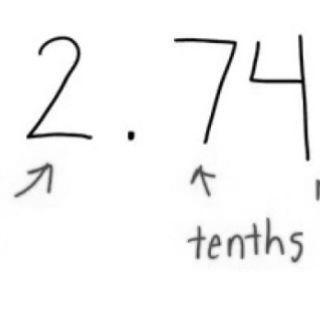.: (123, 127, 141, 144)
2: (21, 32, 97, 143)
4: (249, 34, 313, 160)
7: (170, 31, 239, 150)
